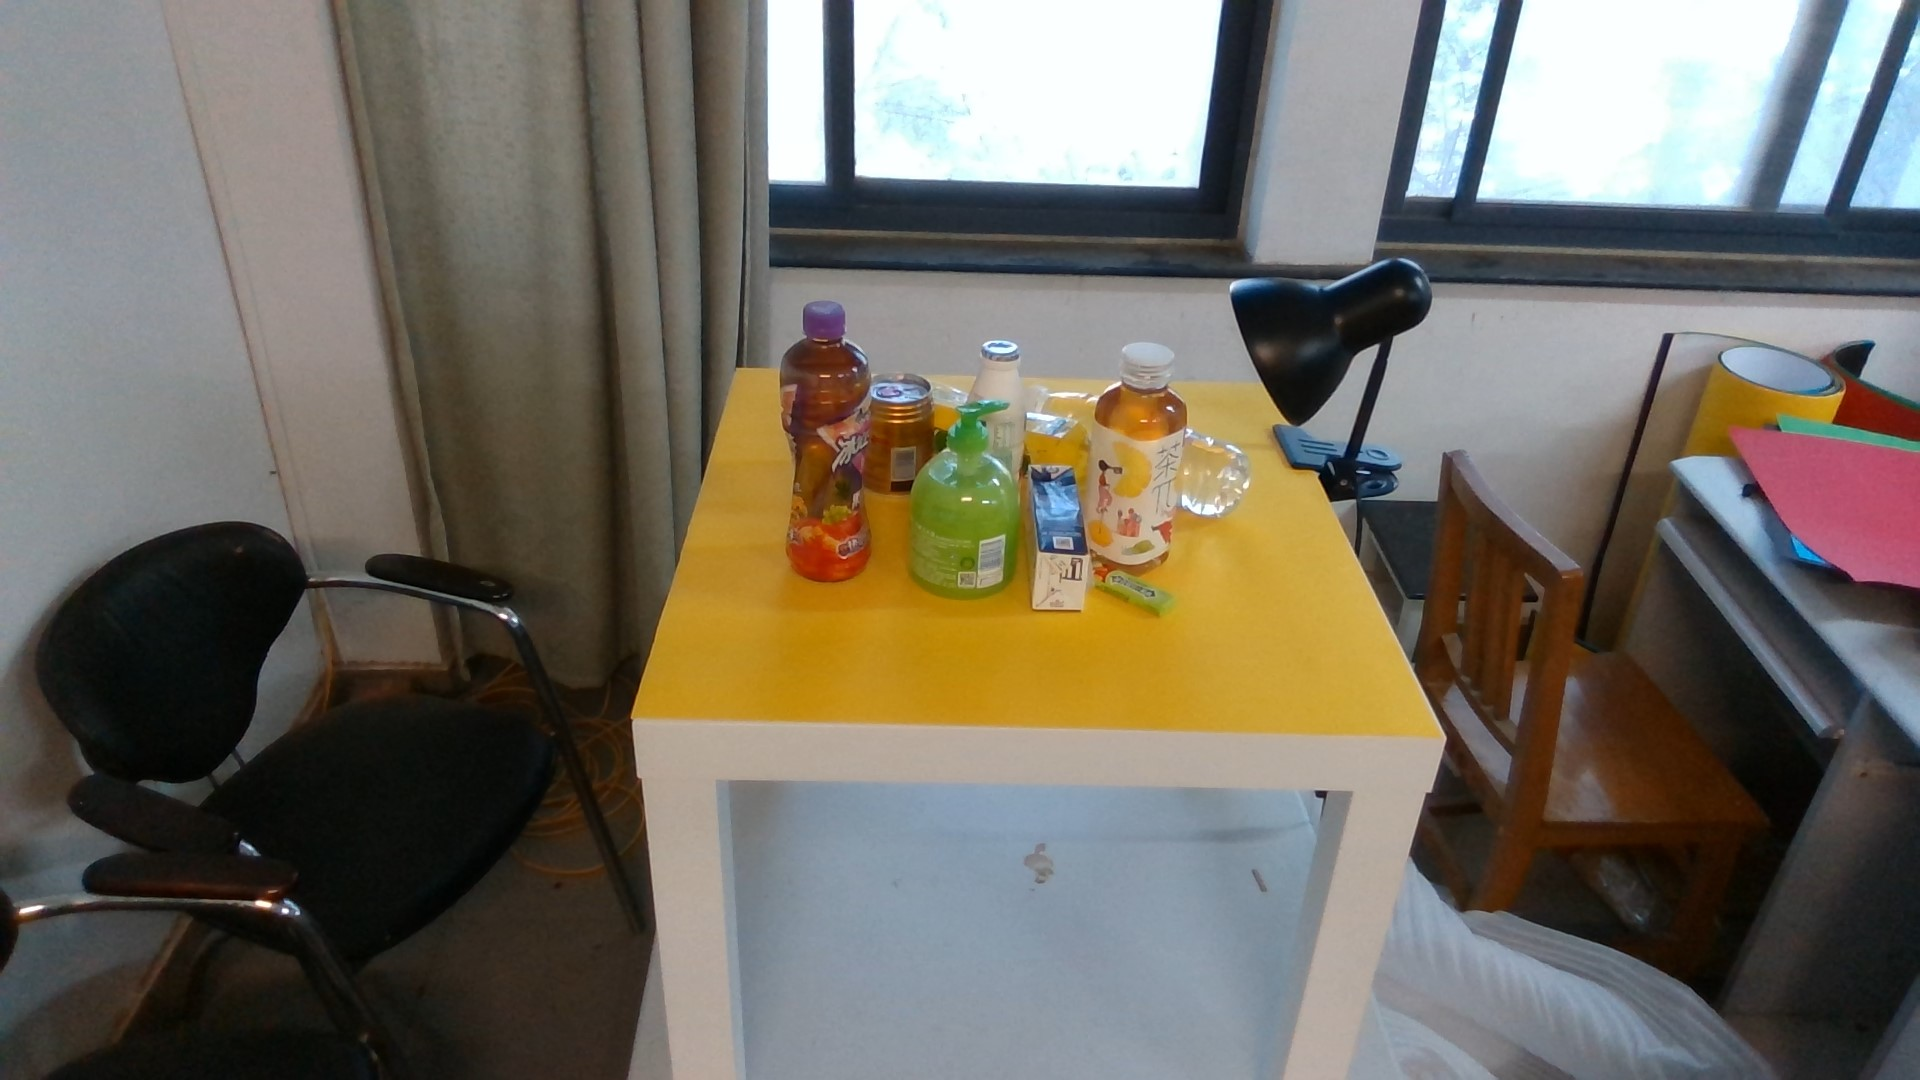BB002: (1088, 562, 1179, 620)
BB010: (1027, 465, 1091, 609)
ZA002: (913, 458, 1019, 603)
ZC004: (876, 367, 916, 495)
ZC009: (779, 295, 876, 584)
ZC011: (930, 382, 963, 425)
ZC012: (1095, 338, 1189, 566)
